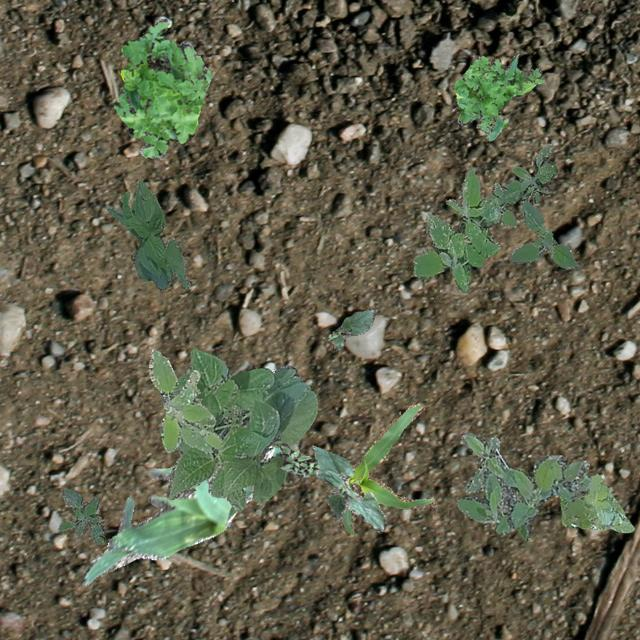crop: (79, 444, 281, 586), (166, 348, 316, 510), (338, 402, 434, 536), (106, 178, 190, 288), (312, 444, 386, 530), (326, 306, 374, 349)
weed: (454, 432, 588, 538), (113, 17, 210, 156), (482, 142, 578, 268), (412, 167, 498, 290), (148, 348, 222, 453), (454, 54, 544, 140), (558, 472, 634, 532), (56, 486, 104, 544), (278, 442, 318, 476)
